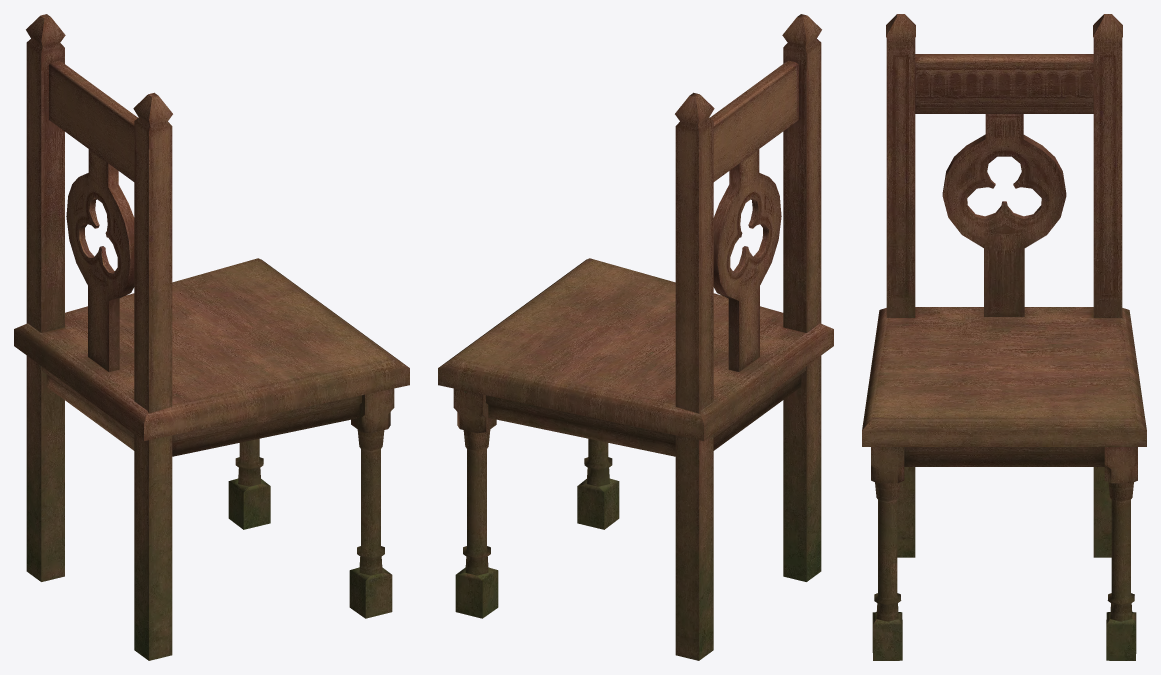
3 renders of one model, left to right at view 1: azimuth 30°, elevation 25°; view 2: azimuth 150°, elevation 25°; view 3: azimuth 270°, elevation 25°, orthographic. The views are drawn at different scales.
Visible parts, largest first — view 1: SM_GothicChair02_LOD0; view 2: SM_GothicChair02_LOD0; view 3: SM_GothicChair02_LOD0.
Boxes of the visible parts, x1,y1,x2,y2 form: SM_GothicChair02_LOD0: (14, 14, 409, 660); SM_GothicChair02_LOD0: (438, 14, 833, 660); SM_GothicChair02_LOD0: (862, 14, 1146, 660).
Size of the model in its own units: 0.6433 by 1.34 by 0.642.
1 material, 1 textured.
